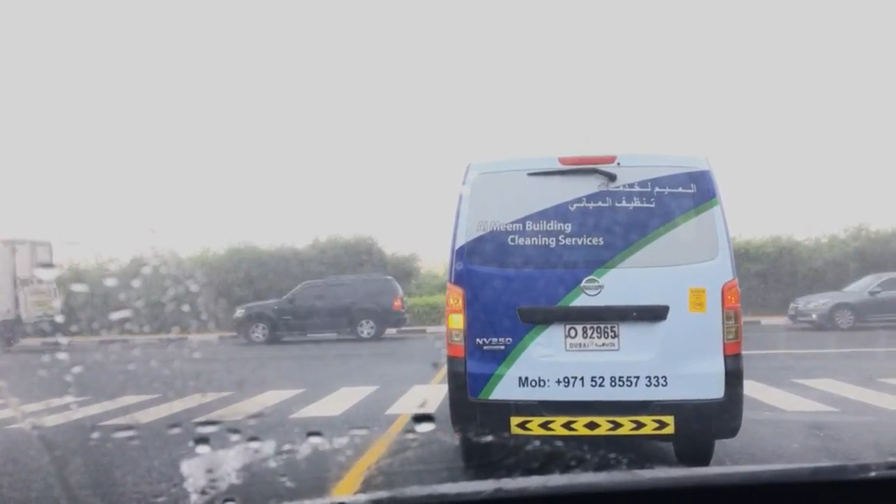bus: (1, 237, 56, 347)
car: (443, 150, 745, 469), (229, 273, 412, 345), (780, 267, 896, 332)
